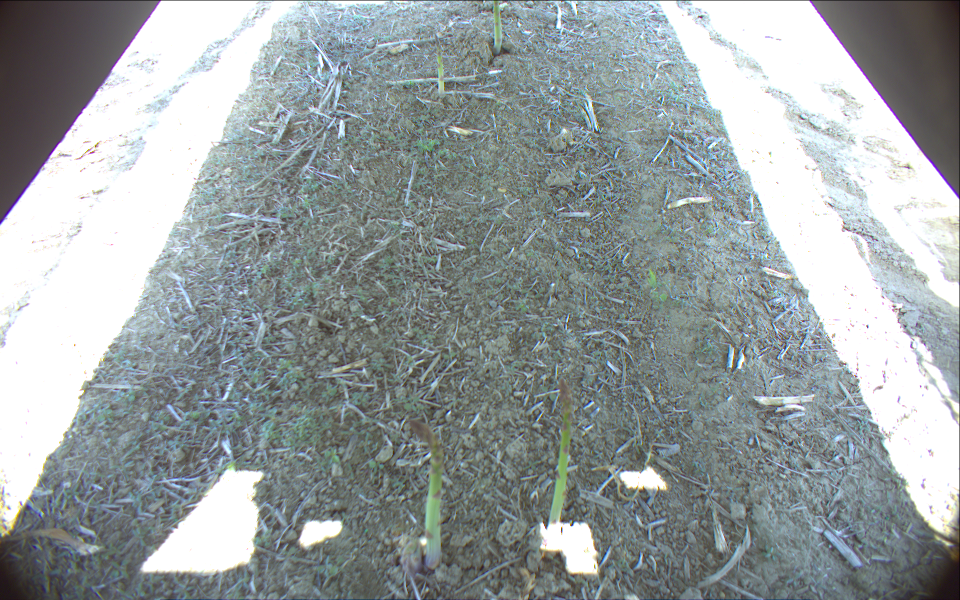aspa: (406, 418, 446, 572), (544, 377, 573, 537), (383, 73, 505, 87), (434, 32, 446, 95), (492, 1, 504, 53)
